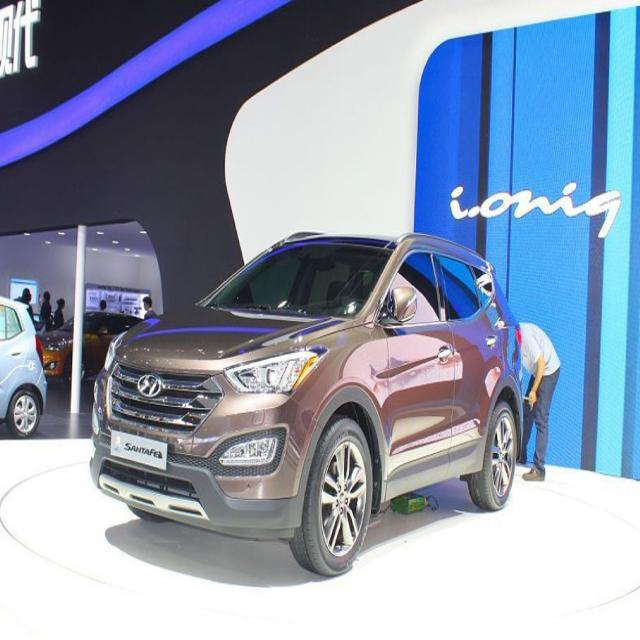front_bumper: (92, 376, 313, 539)
front_glass: (204, 241, 390, 319)
front_left_side_door: (383, 244, 459, 500)
front_left_side_light: (225, 344, 322, 398)
front_left_side_mirror: (389, 281, 418, 324)
wheel: (300, 419, 372, 574), (480, 406, 515, 511)
